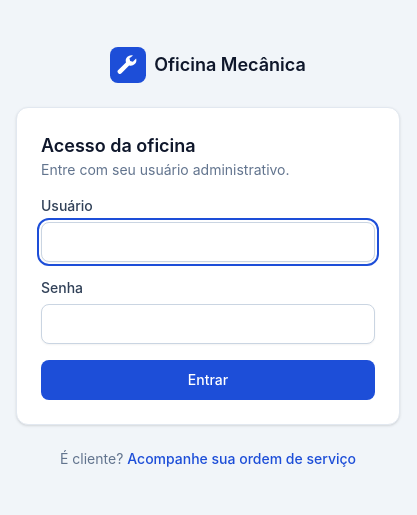
autenticação › mostra o erro devolvido pela API
Type "admin" into the field labelled "Usuário". click: (208, 242)
box: [41,222,375,262]
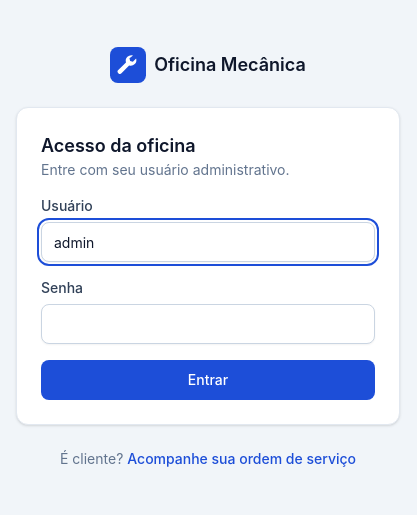
Type "errada" into the password field labelled "Senha". click: (208, 324)
box: [41,304,375,344]
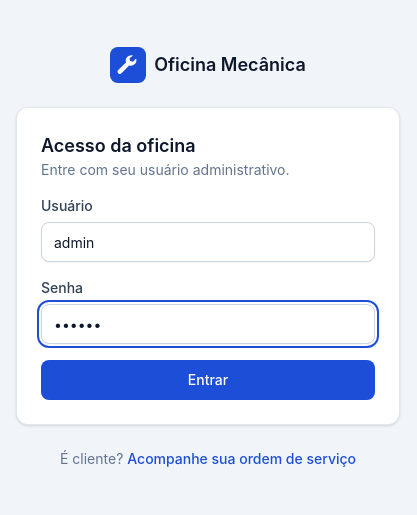
Click the button "Entrar". click: (208, 380)
box: [41,360,375,400]
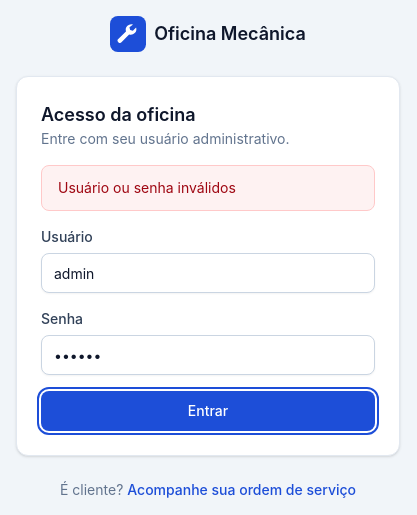
Check: the message reads "Usuário ou senha inválidos", box [58,179,236,196]
